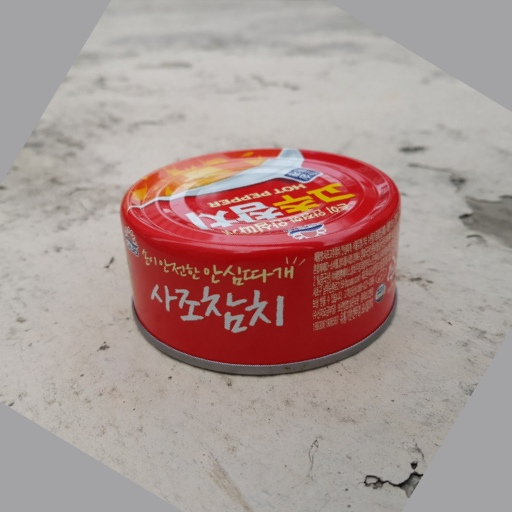Metal_1: (117, 145, 405, 375)
